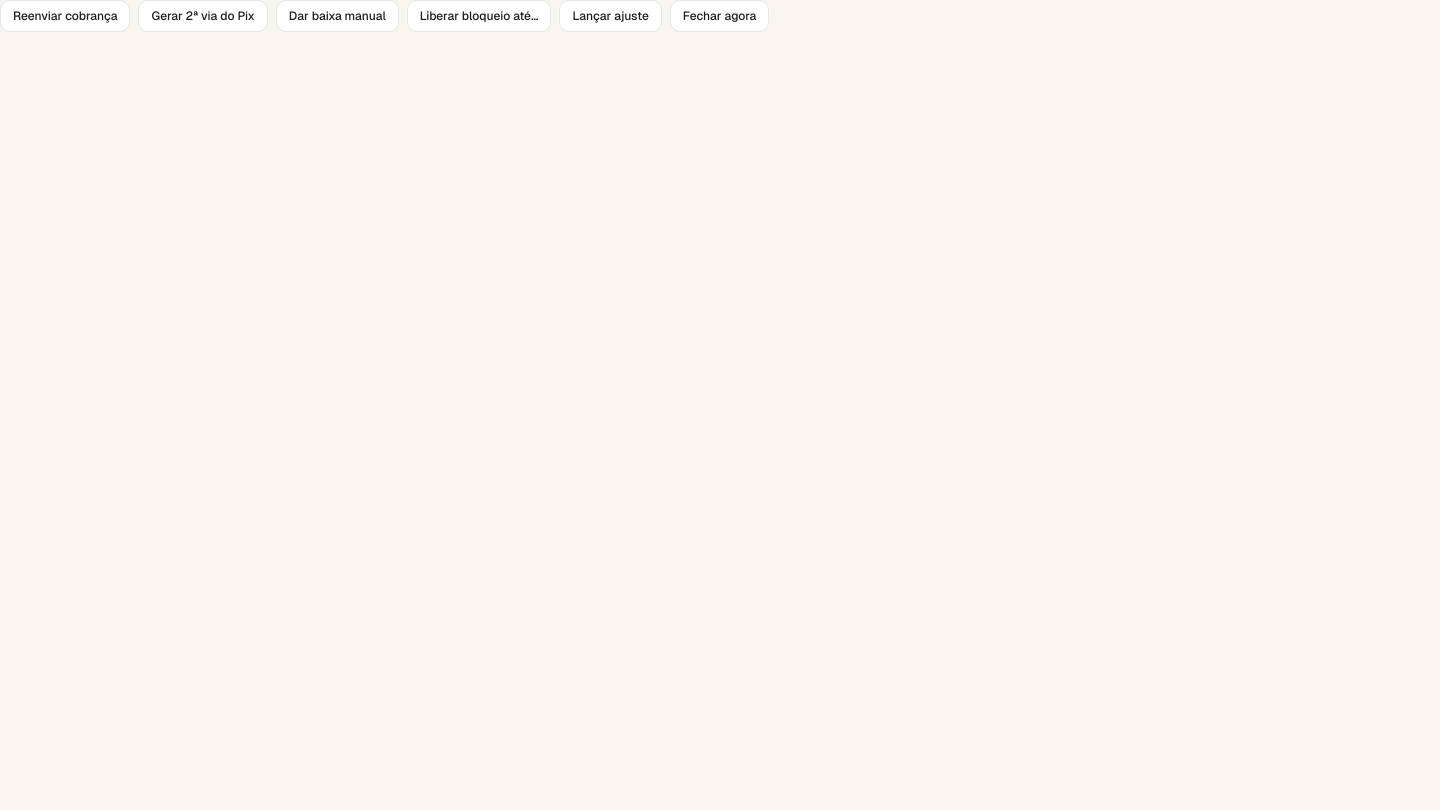
Scenario: Ações da fatura › 503 da 2ª via: 'O código Pix ainda não está disponível.'
This screenshot has width=1440, height=810.
Click the button "Gerar 2ª via do Pix". click: (203, 16)
box: x1=138 y1=0 x2=268 y2=32
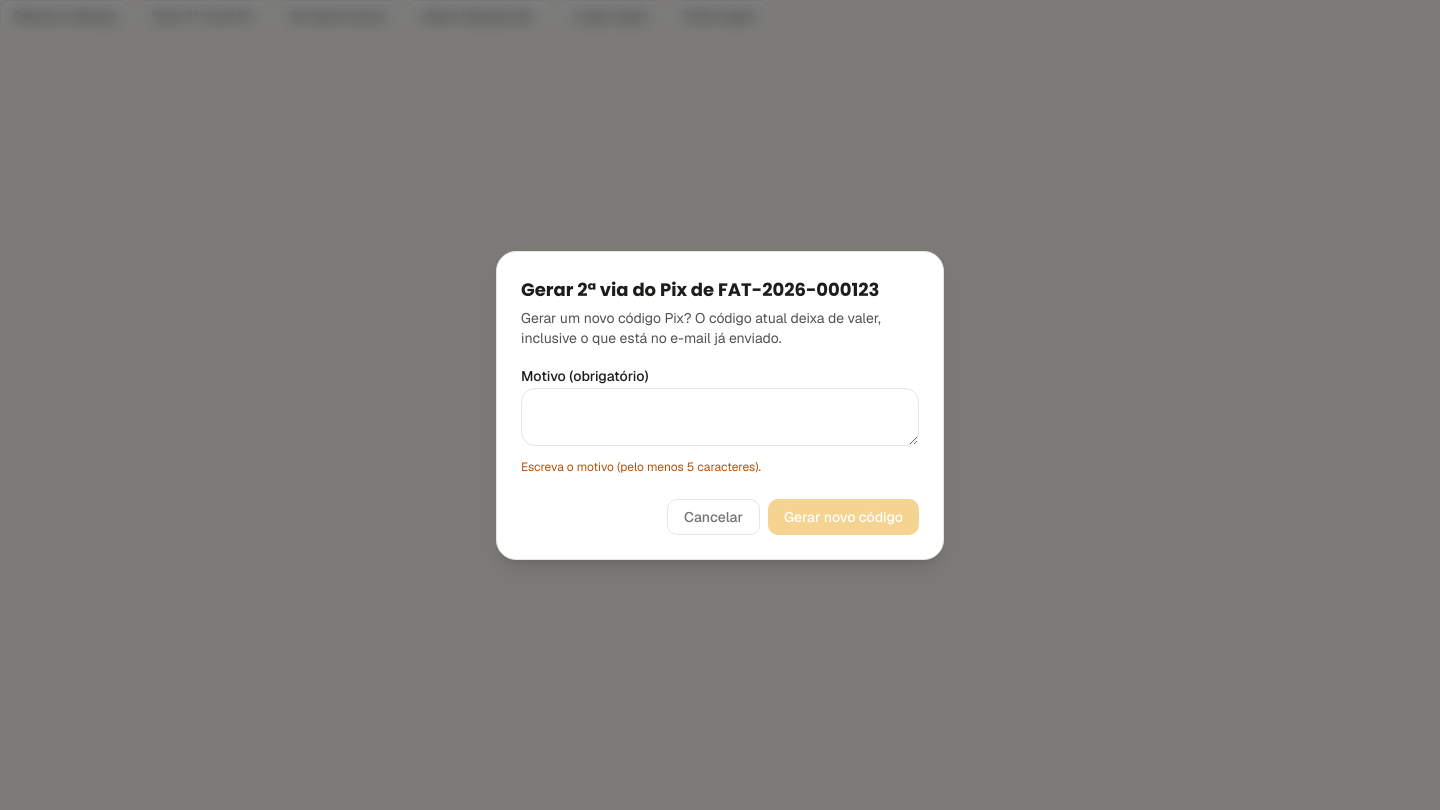
Expected: the text "Gerar um novo código Pix? O código atual deixa de valer, inclusive o que está no e-mail já enviado." is shown, x1=521 y1=308 x2=881 y2=346
Type "Cliente perdeu o código" into the text box labelled "Motivo (obrigatório)". click: (720, 416)
box: x1=521 y1=388 x2=919 y2=446
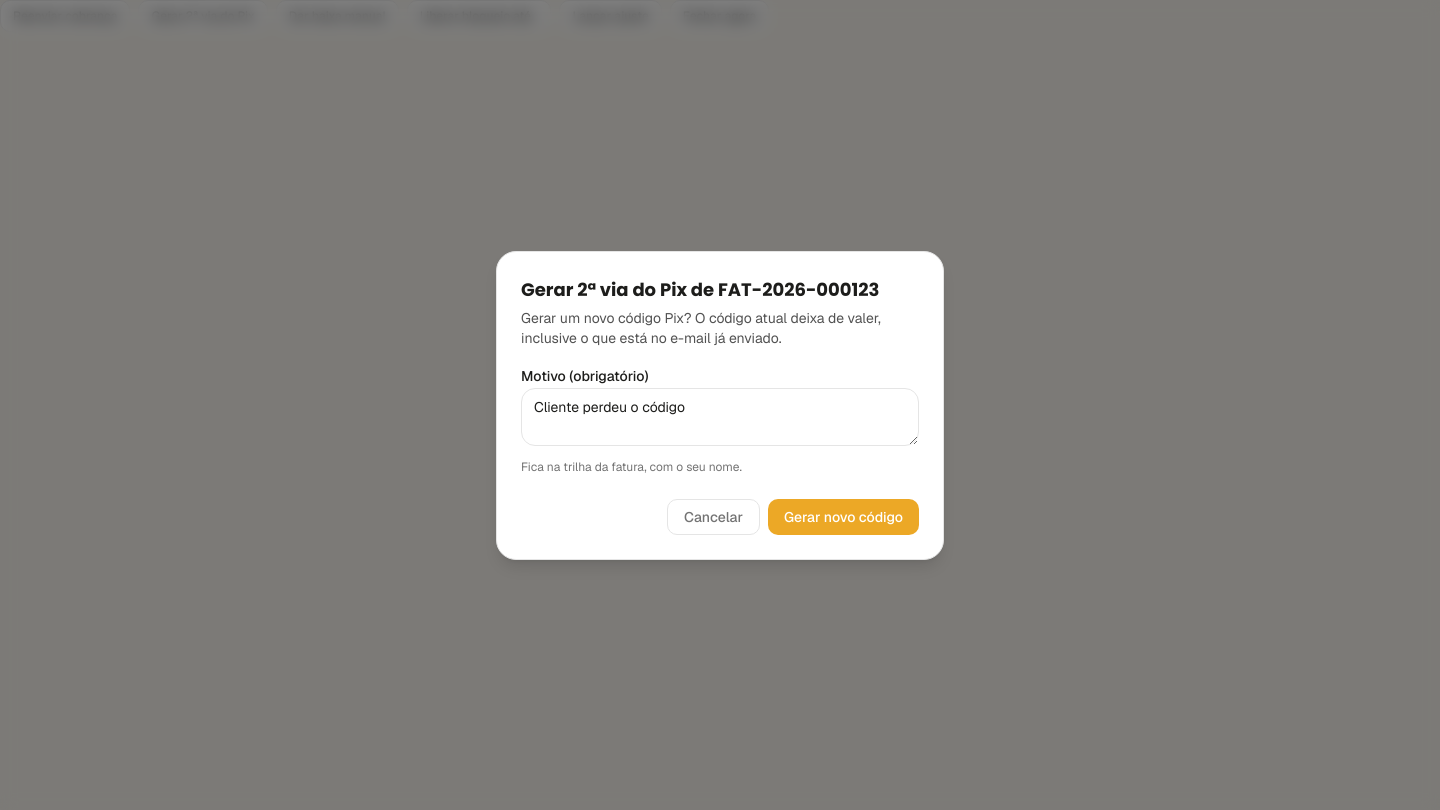
Click the button "Gerar novo código". click: (844, 516)
box: x1=768 y1=498 x2=919 y2=534
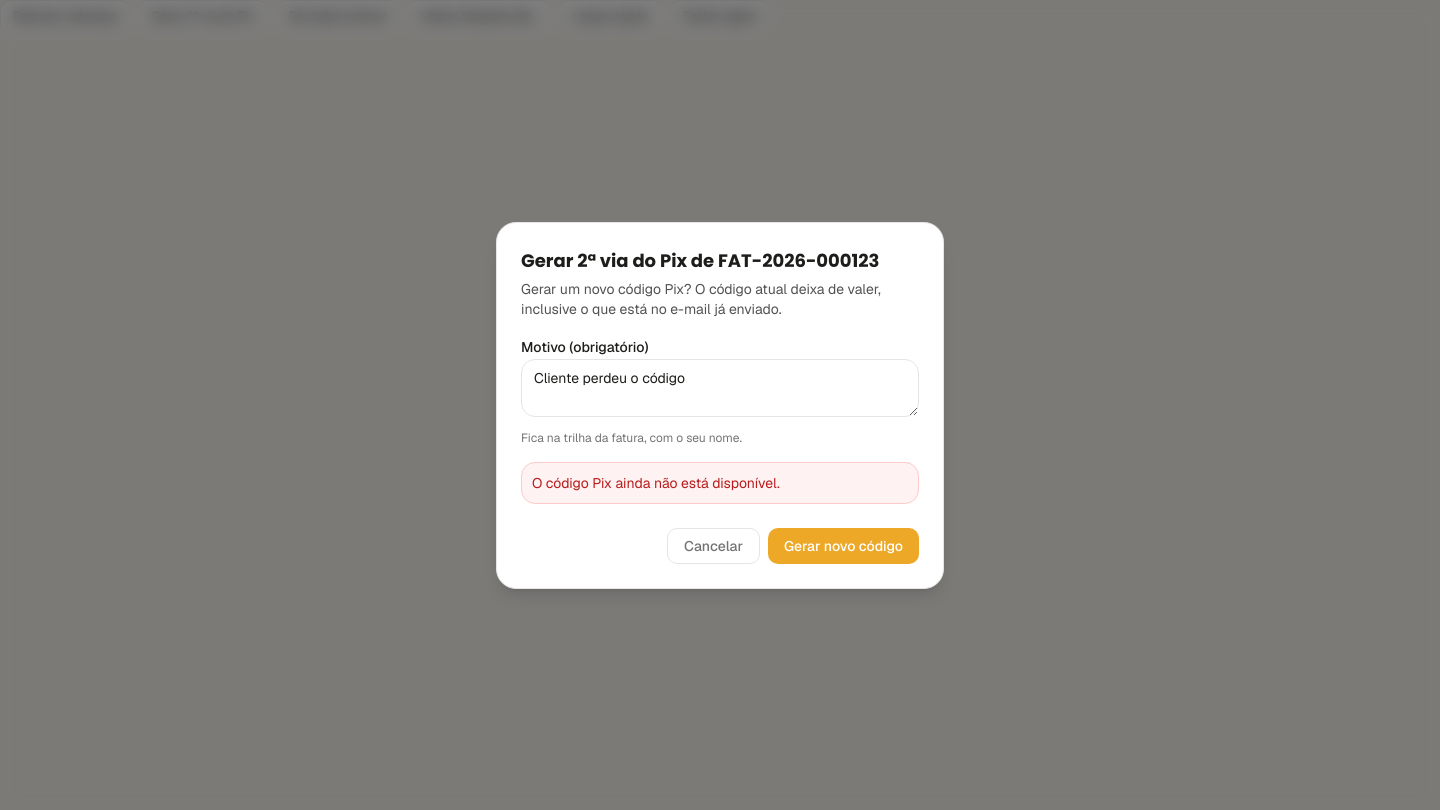
Expected: the message reads "O código Pix ainda não está disponível.", x1=532 y1=474 x2=780 y2=492
